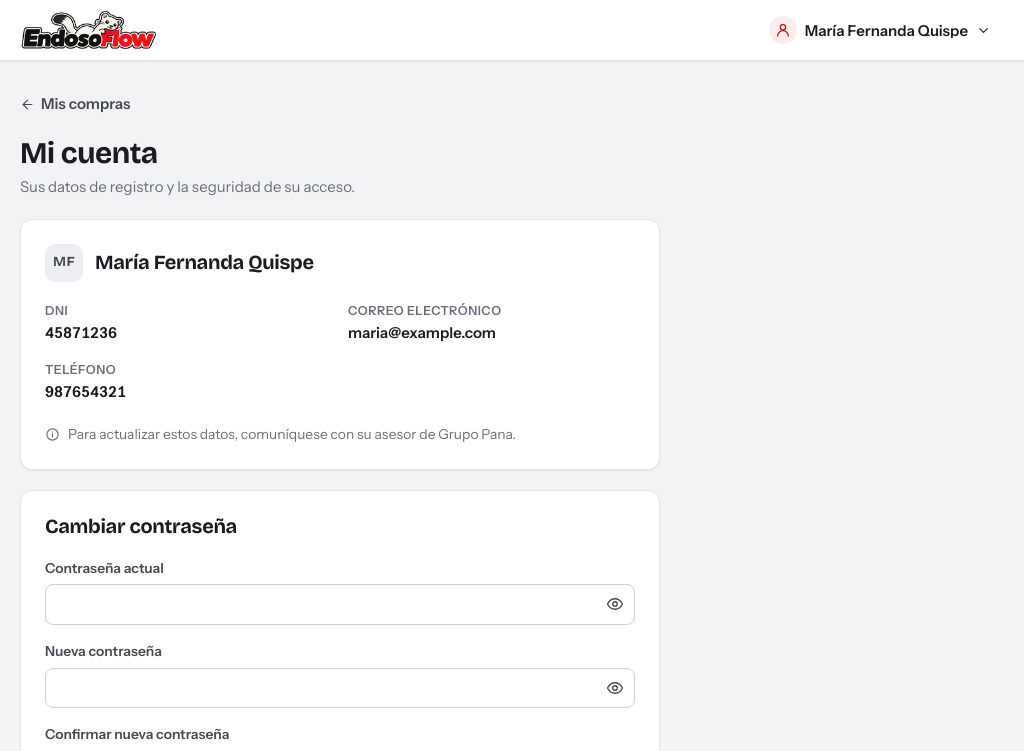
Test: my account › puts the server's complaint about the current password on that field
Type "equivocada-1" into the password field labelled "Contraseña actual" at coordinates (340, 605), box [45,584,635,625]
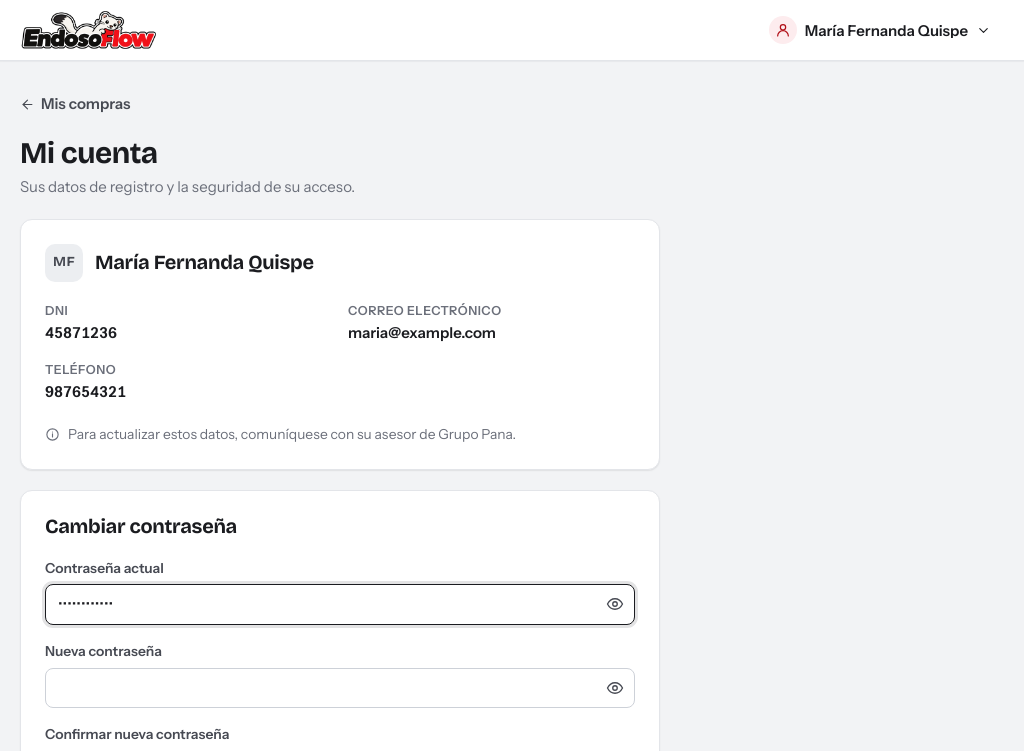
Type "nueva-clave-123" into the password field labelled "Nueva contraseña" at coordinates (340, 688), box [45,668,635,708]
(page scrolled)
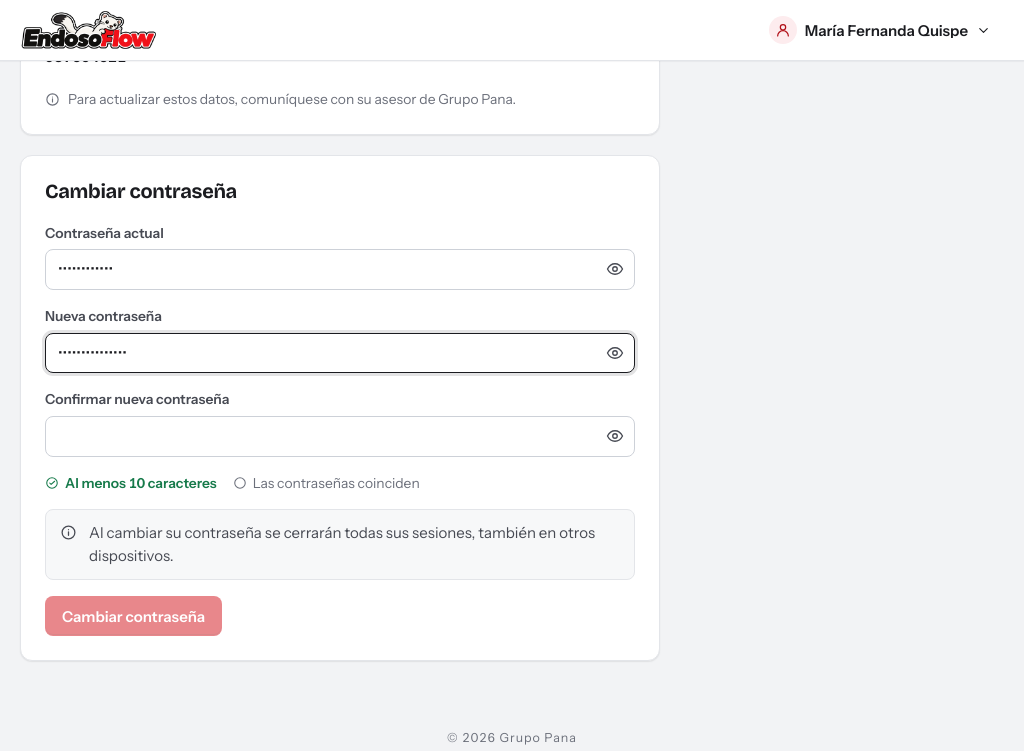
Type "nueva-clave-123" into the password field labelled "Confirmar nueva contraseña" at coordinates (340, 436), box [45,416,635,456]
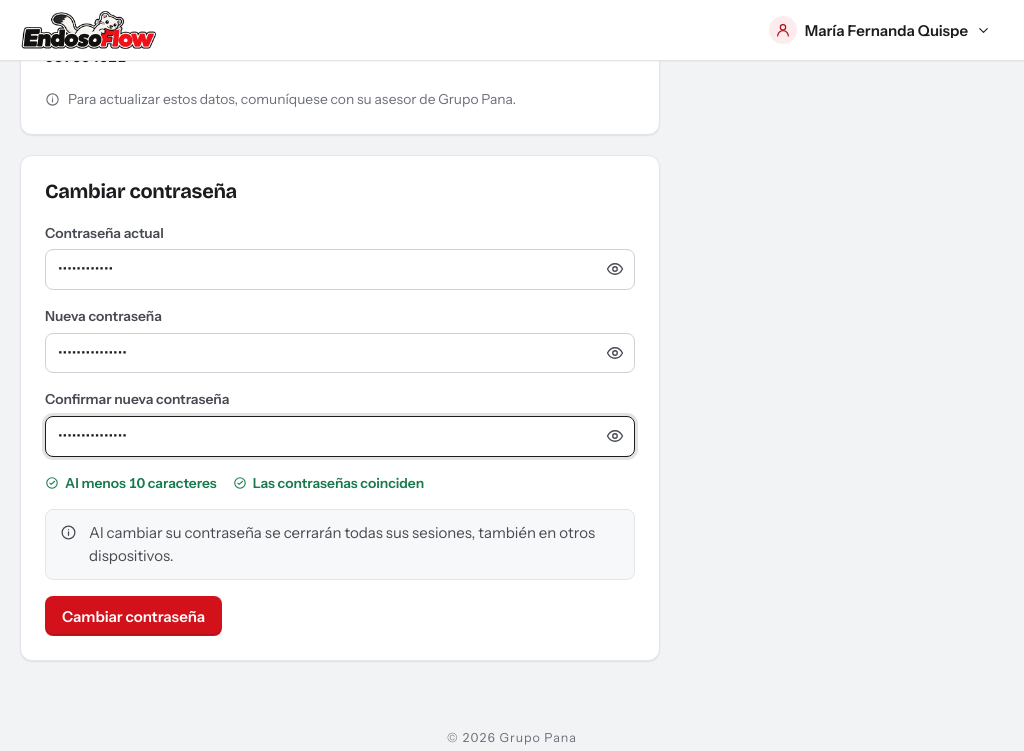
Click the button "Cambiar contraseña" at coordinates (134, 616), box [45,596,222,636]
(page scrolled)
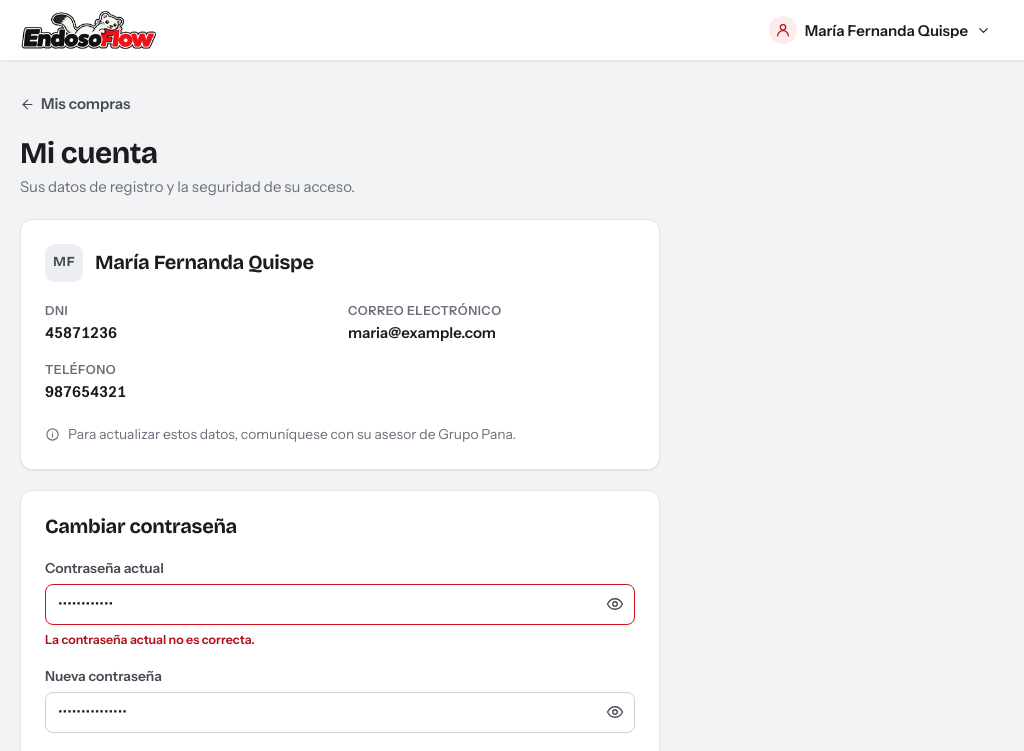
Expected: the heading "Mi cuenta" is shown, [20,134,158,170]
Result: the text "La contraseña actual no es correcta." is shown at [45,632,255,647]
